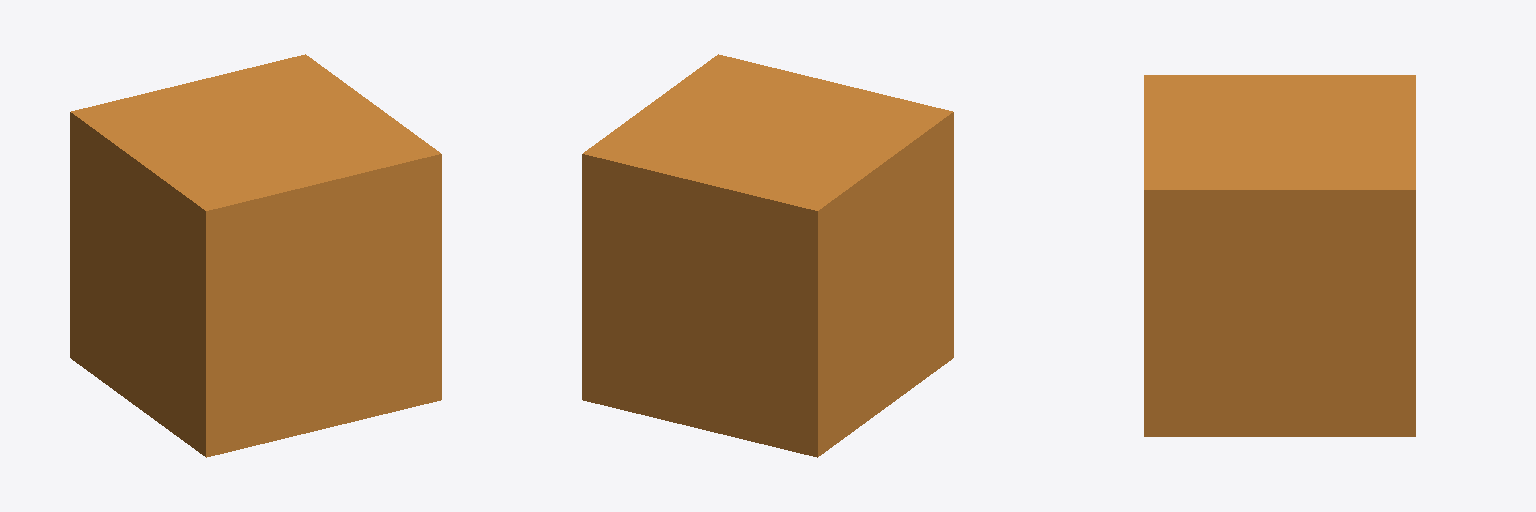
The model's file is cornell8Hi.obj.
3 views of the same model, side by side, from view 1: azimuth 30°, elevation 25°; view 2: azimuth 150°, elevation 25°; view 3: azimuth 270°, elevation 25° (orthographic).
Visible parts, largest first — view 1: Cube; view 2: Cube; view 3: Cube.
Boxes of the visible parts, x1,y1,x2,y2 form: Cube: [70, 54, 441, 457]; Cube: [582, 54, 953, 457]; Cube: [1144, 75, 1415, 436].
Bounding box in the file's own units: 574 × 574 × 574.